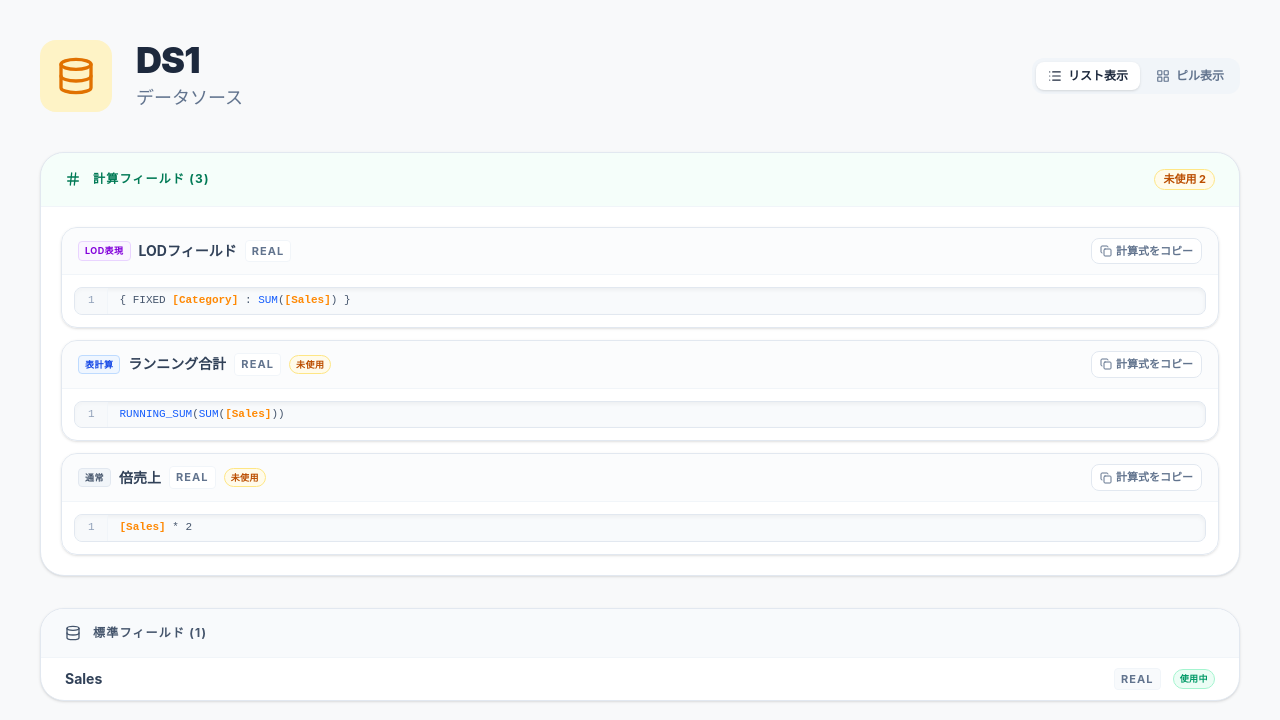
DetailView - データソース計算式リストビュー › ピル表示トグルでピル表示に切り替わり、コピーボタンが消えること
Expected: the number of buttons with test id "copy-formula-button" is 3, top-left (1091, 238), bottom-right (1202, 264); top-left (1091, 351), bottom-right (1202, 378); top-left (1091, 464), bottom-right (1202, 491)
#  ピル表示へ切替
Click the button "ピル表示": (1190, 76) top-left (1144, 62), bottom-right (1236, 90)
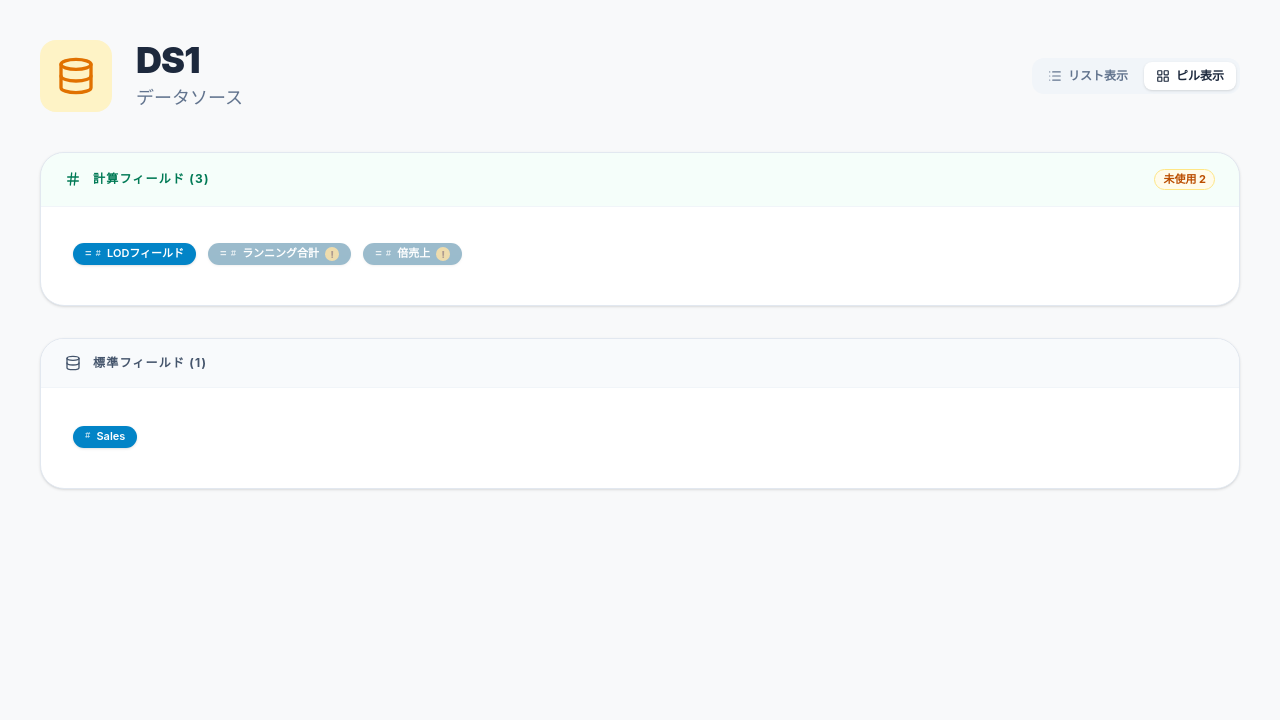
Now the button with test id "copy-formula-button" is gone
